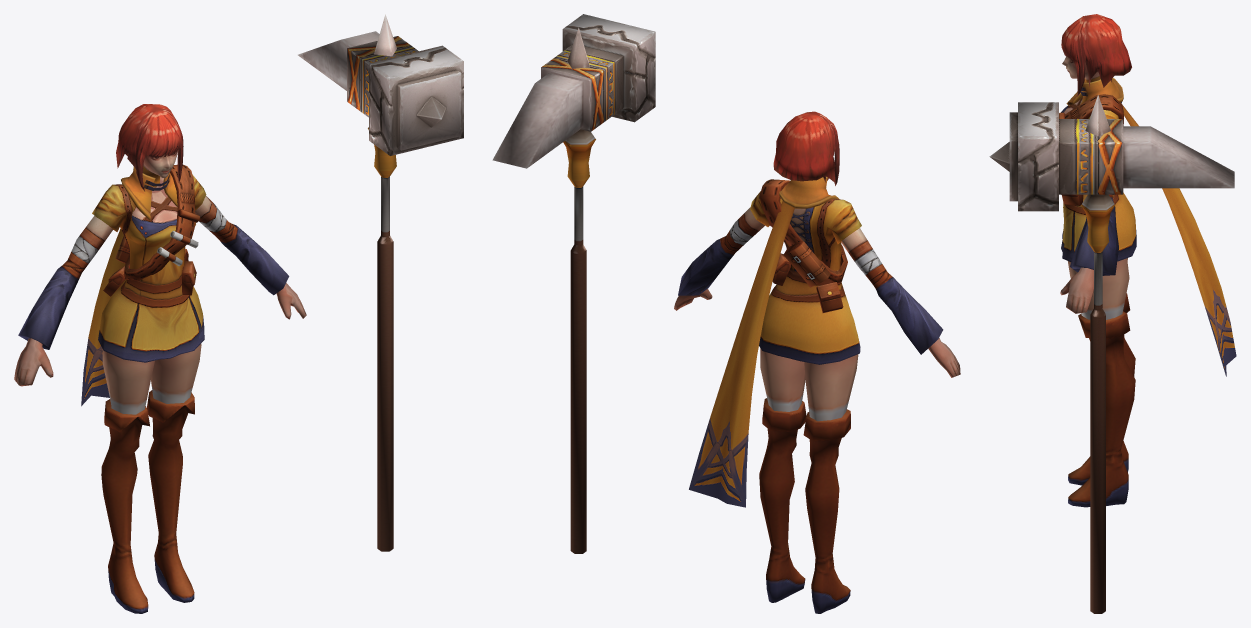
3 views of the same model, side by side, from view 1: azimuth 30°, elevation 25°; view 2: azimuth 150°, elevation 25°; view 3: azimuth 270°, elevation 25° (orthographic). The views are drawn at different scales.
Parts seen in each view (by area): view 1: Siluria_Body; view 2: Siluria_Body; view 3: Siluria_Body.
Part boxes in pixels (x1,y1,x2,y2): Siluria_Body: (14, 14, 463, 613); Siluria_Body: (492, 14, 960, 613); Siluria_Body: (989, 14, 1236, 613).
Bounding box in the file's own units: 1.52 × 1.87 × 0.8131.
Materials: 1 (1 with a texture image).
